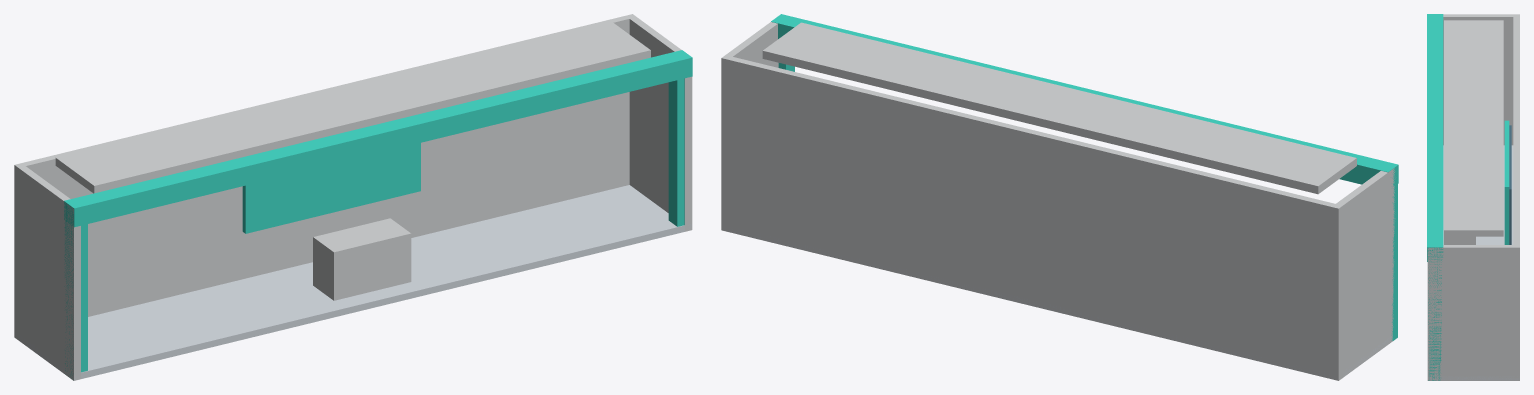
3 views of the same model, side by side, from view 1: azimuth 30°, elevation 25°; view 2: azimuth 150°, elevation 25°; view 3: azimuth 270°, elevation 25° (orthographic). The views are drawn at different scales.
Visible parts, largest first — view 1: Exhibition Booth Concept; view 2: Exhibition Booth Concept; view 3: Exhibition Booth Concept.
Part boxes in pixels (x1,y1,x2,y2): Exhibition Booth Concept: [14, 14, 692, 380]; Exhibition Booth Concept: [721, 14, 1398, 380]; Exhibition Booth Concept: [1427, 14, 1519, 380].
Size of the model in its own units: 12 by 3.34 by 2.01.
